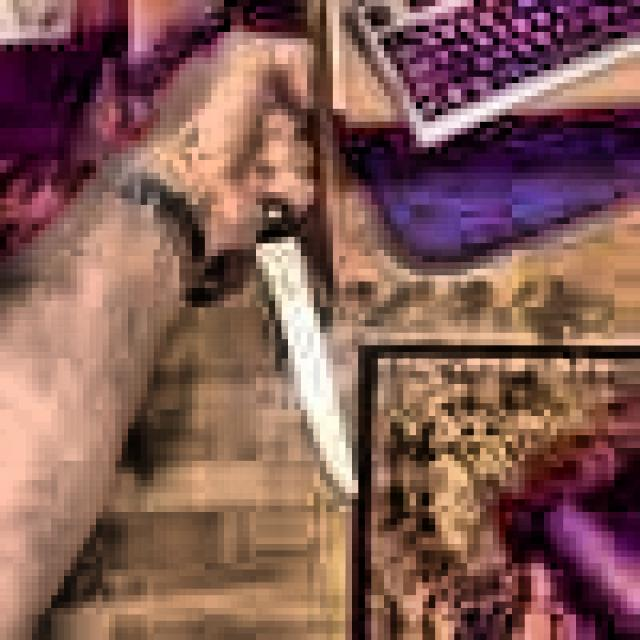knife: (262, 203, 360, 500)
